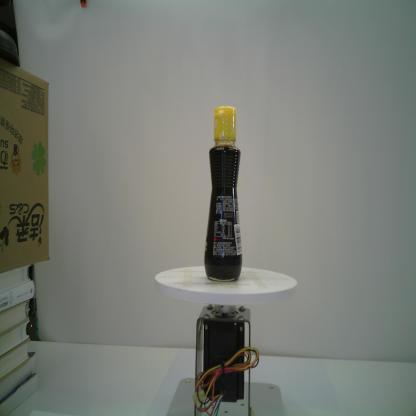Seasoner: (203, 102, 243, 283)
